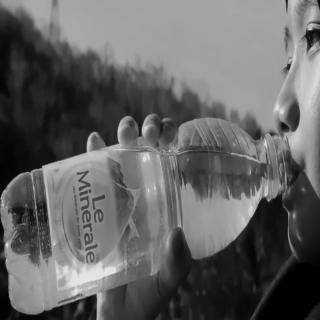plastic_bottles: (0, 118, 291, 314)
